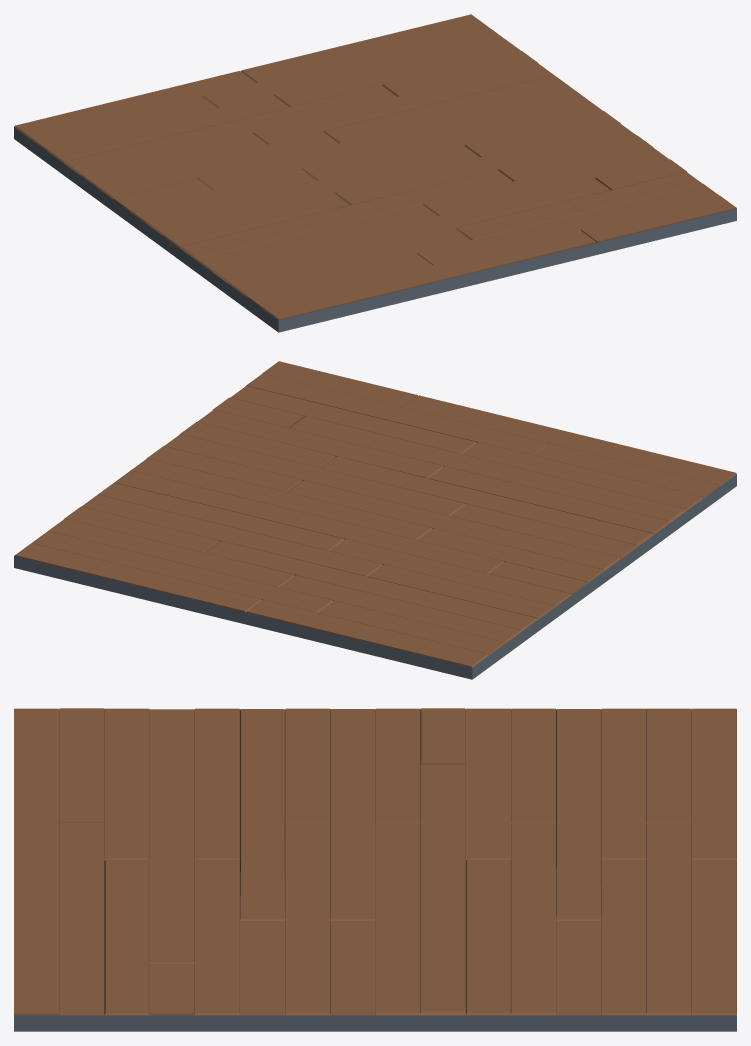
Rendered from Floor_3B.fbx.
The picture shows the model from 3 angles, top to bottom: view 1: azimuth 30°, elevation 25°; view 2: azimuth 150°, elevation 25°; view 3: azimuth 270°, elevation 25°; orthographic projection. The views are drawn at different scales.
Parts seen in each view (by area): view 1: pCube812; view 2: pCube812; view 3: pCube812.
Boxes of the visible parts, bbox=[...] form: pCube812: bbox=[14, 14, 736, 332]; pCube812: bbox=[14, 361, 736, 679]; pCube812: bbox=[14, 708, 736, 1031].
Bounding box in the file's own units: 4 × 0.11 × 4.
Materials: 1 (1 with a texture image).
